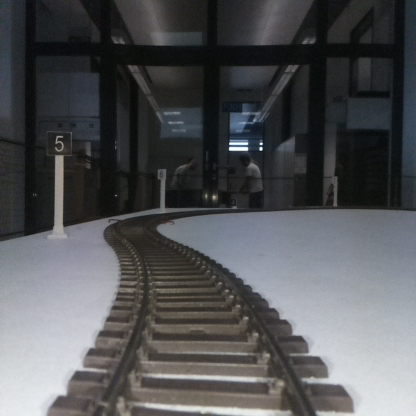black-info-5: (47, 131, 71, 237)
white-info-6: (157, 168, 166, 213)
